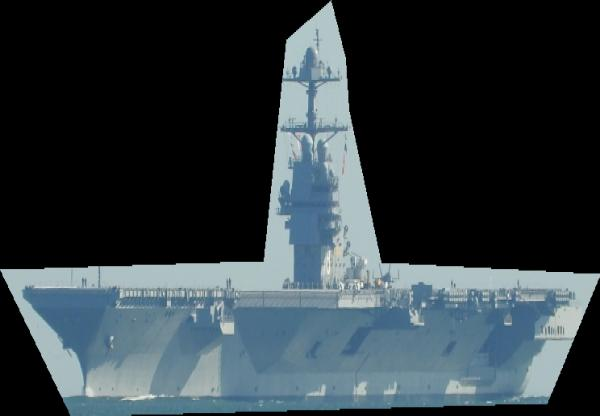Aircraft Carrier: (0, 1, 600, 416)
